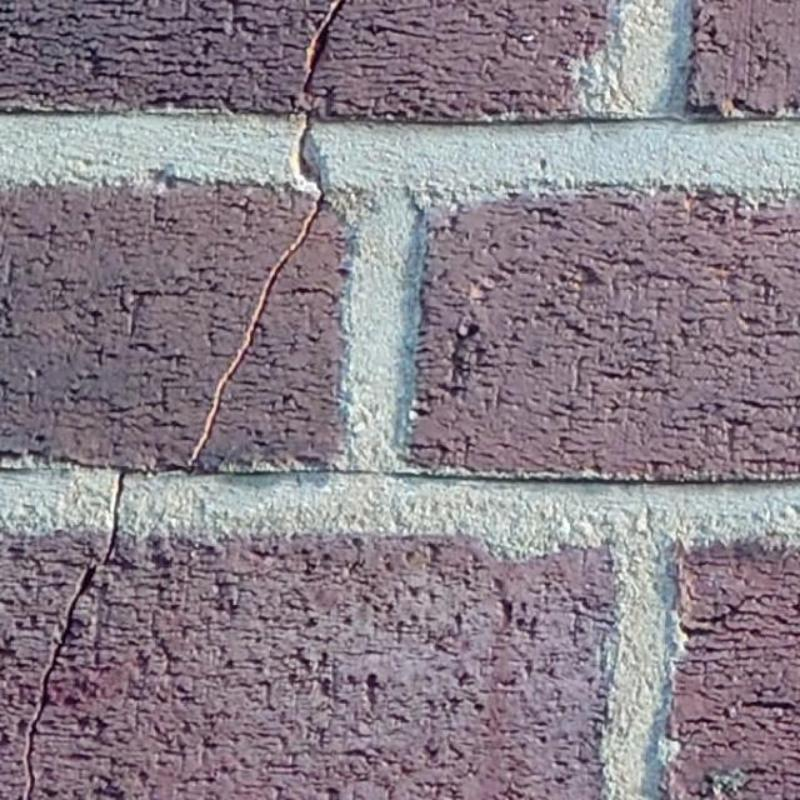pothole: (188, 178, 323, 470), (20, 472, 124, 799), (291, 0, 345, 180)
